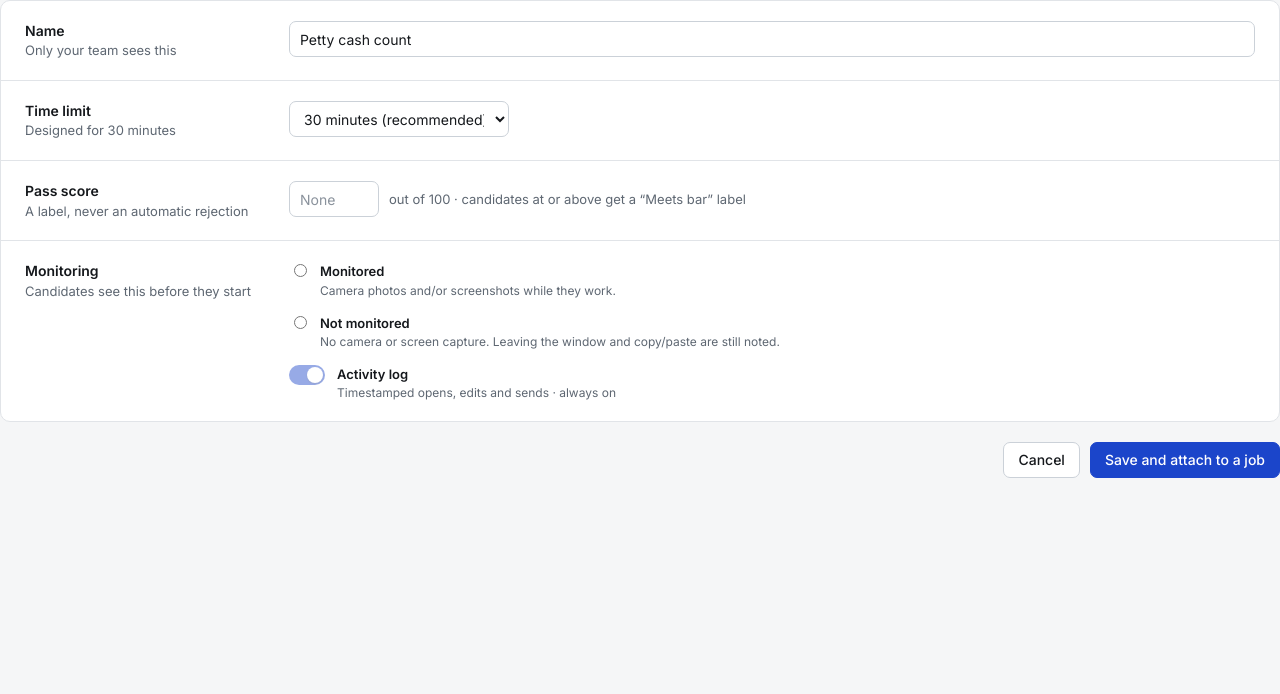
ConfigureAssessmentForm: from the library › offers full screen, microphone and gaze under Monitored; gaze needs the camera
Later steps or results of the test are not shown.
Expected: the switch labelled "Require full screen" is not shown
Click the radio button labelled "Monitored". click: [300, 271]
box: [294,264,307,277]
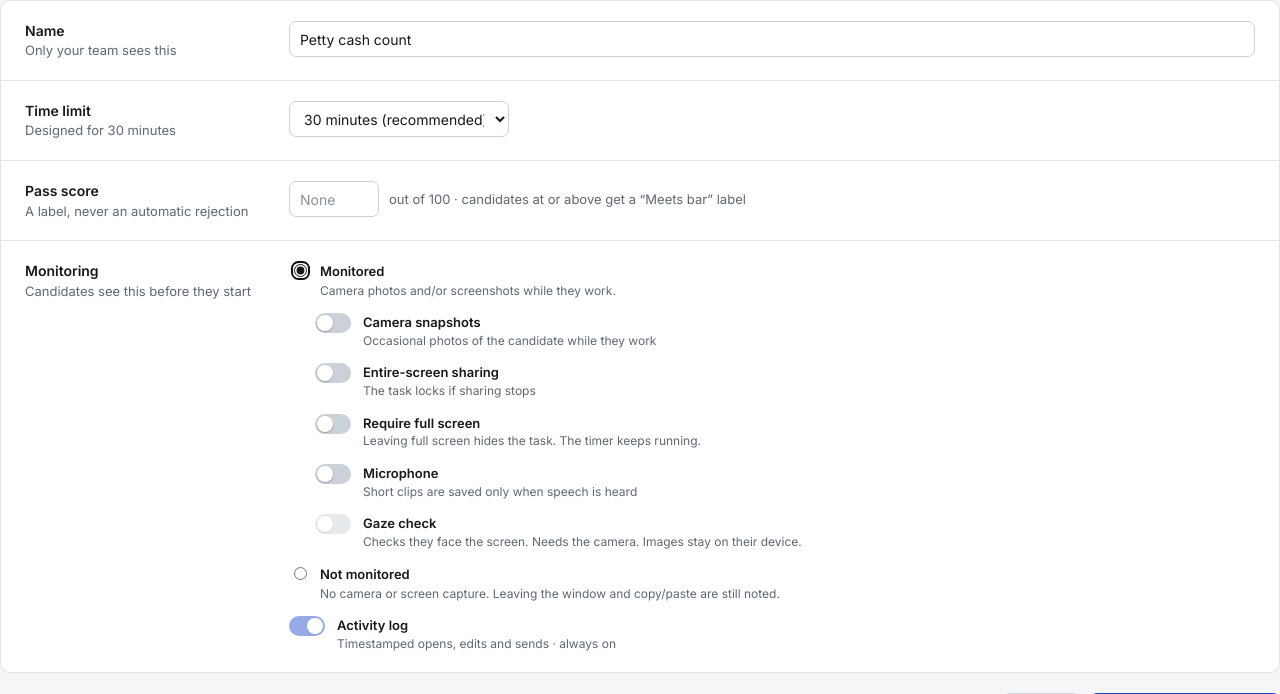
Now the switch named "Gaze check" is disabled, box [315,514,351,534]
Click the switch named "Camera snapshots". click: [333, 323]
box: [315,313,351,333]
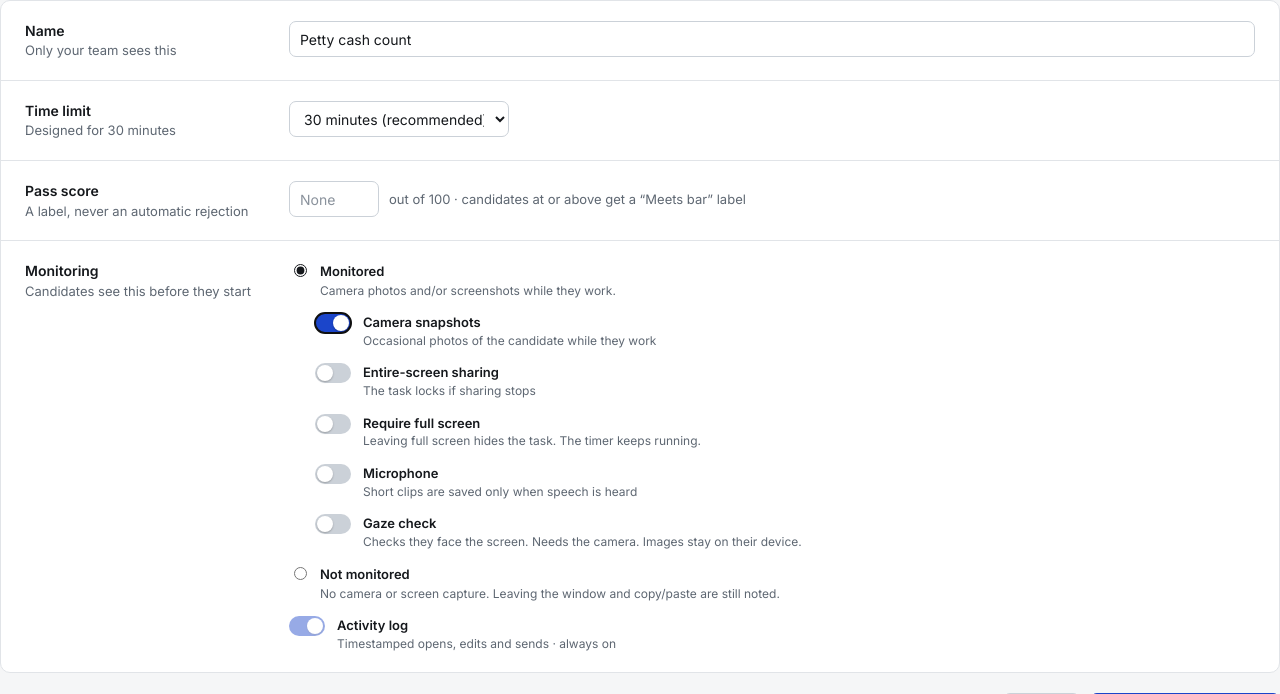
Now the switch named "Gaze check" is enabled, box [315,514,351,534]
